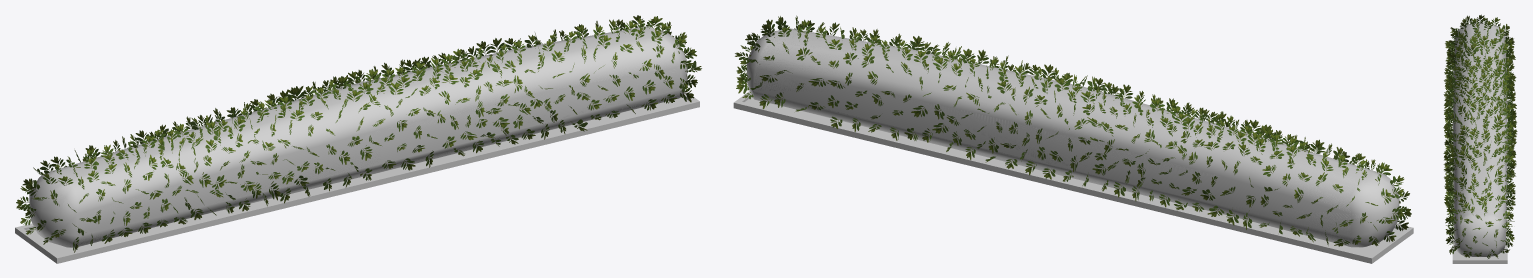
Rendered from jctHedgeA.fbx.
3 renders of one model, left to right at view 1: azimuth 30°, elevation 25°; view 2: azimuth 150°, elevation 25°; view 3: azimuth 270°, elevation 25°, orthographic. The views are drawn at different scales.
Parts seen in each view (by area): view 1: jctHedgeA_LOD0; view 2: jctHedgeA_LOD0; view 3: jctHedgeA_LOD0.
Boxes of the visible parts, x1,y1,x2,y2 form: jctHedgeA_LOD0: (15, 15, 701, 263); jctHedgeA_LOD0: (733, 15, 1413, 263); jctHedgeA_LOD0: (1443, 14, 1517, 263).
Size of the model in its own units: 624 by 82.45 by 94.54.
